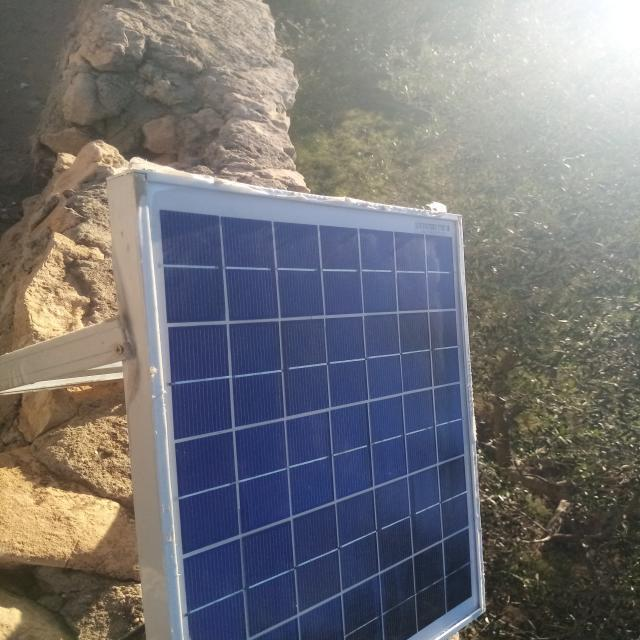Normal Solar Panel: (144, 177, 488, 640)
